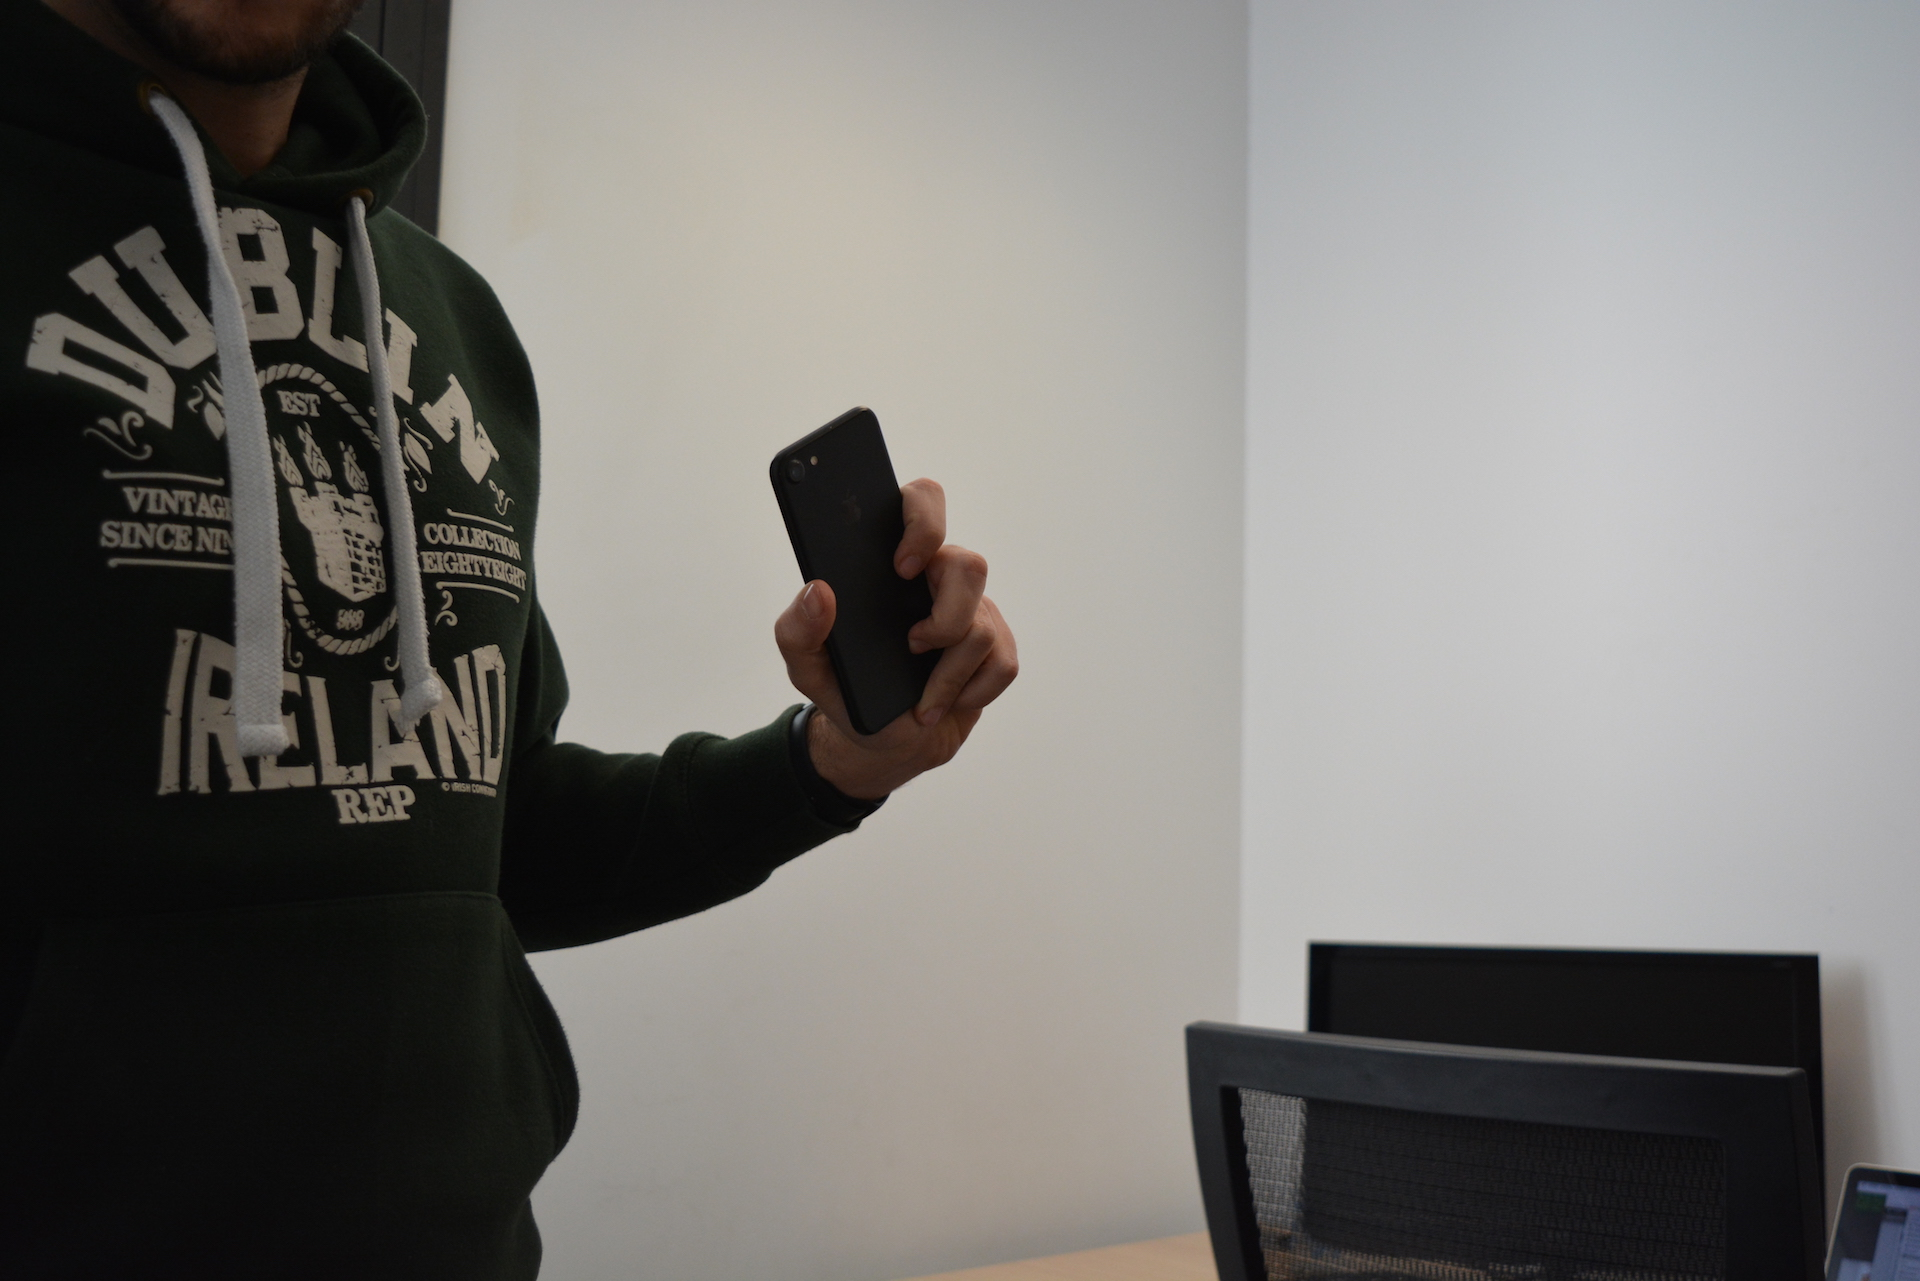smartphone: (768, 405, 948, 739)
